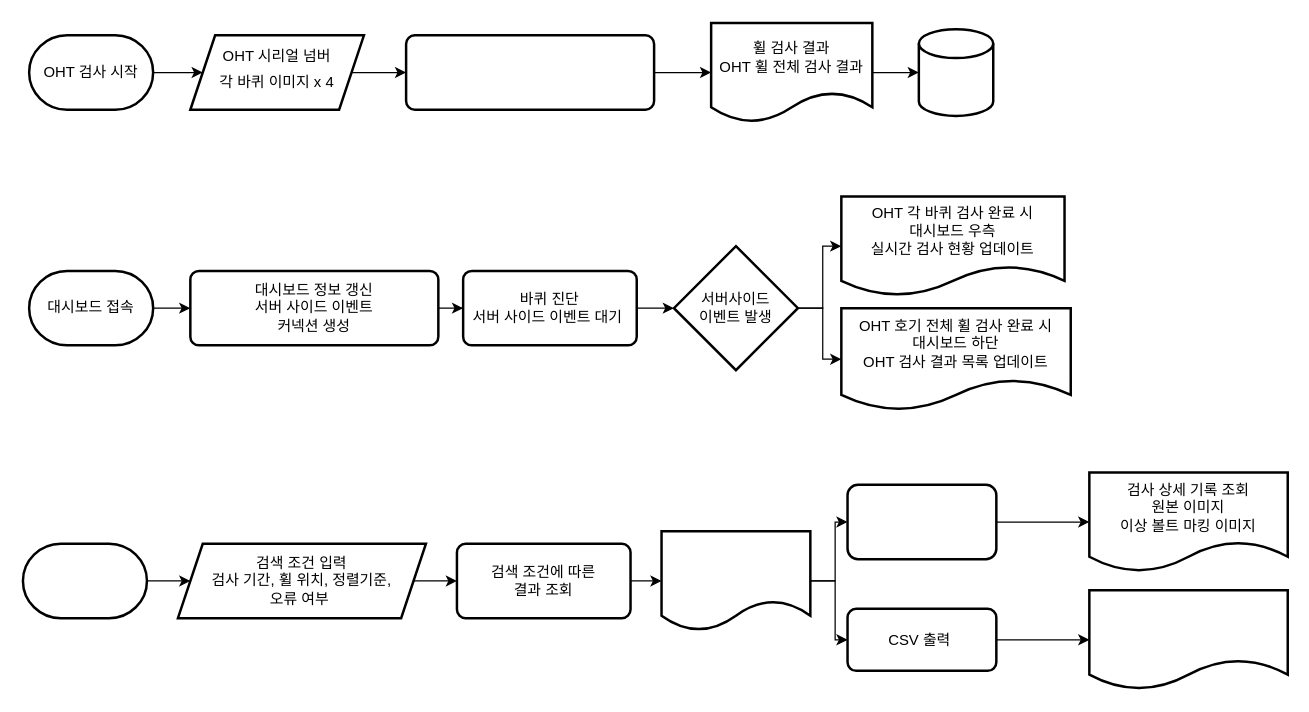
Image size: 1309x712. Some labels were removed from this diagram. The centre of each missing label's shape, as x and y in pixels:
CSV 파일 {출력시간}_{검사기간}.csv: the point at 1187,639
OHT 검사 기록 생성 휠 이미지 데이터 기반 볼트 이상 진단 프로세스 진행: the point at 529,71
검사 기록 상세 조회: the point at 921,521
리포트 페이지: the point at 84,580
저장: the point at 955,72
휠 별 검사 결과 리스트 출력: the point at 735,580
